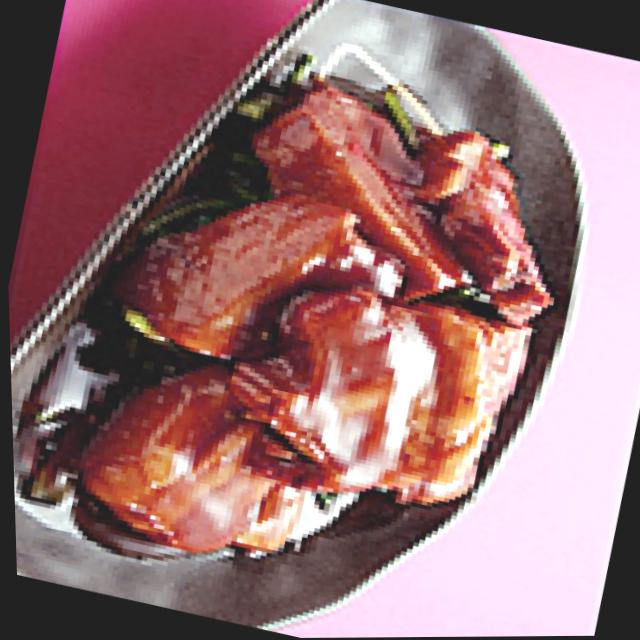猪肉菜式: (52, 20, 622, 632)
